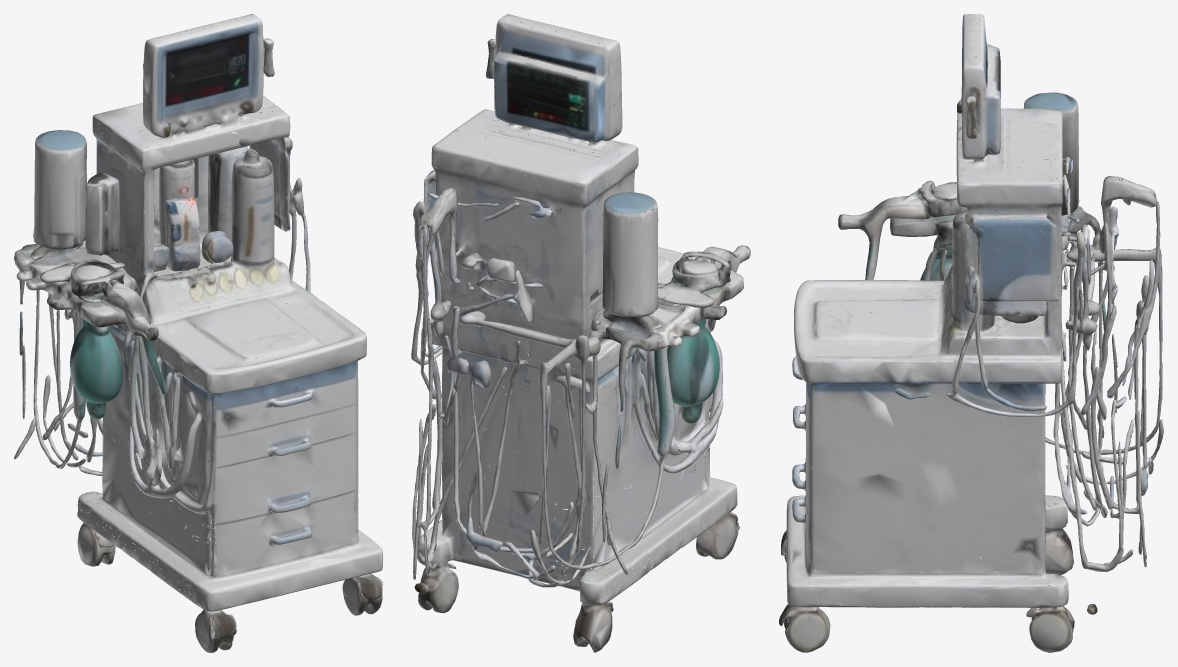
The picture shows the model from 3 angles, left to right: view 1: azimuth 30°, elevation 25°; view 2: azimuth 150°, elevation 25°; view 3: azimuth 270°, elevation 25°; orthographic projection. The views are drawn at different scales.
Visible parts, largest first — view 1: Object_5, Object_6, Object_7, Object_8, Object_9, Object_10, Object_11, Object_12; view 2: Object_9, Object_8, Object_10, Object_12, Object_6, Object_11, Object_7, Object_5; view 3: Object_7, Object_5, Object_6, Object_10, Object_12, Object_9, Object_11, Object_8.
Part boxes in pixels (x1,y1,x2,y2): Object_5: [77, 95, 382, 652]; Object_6: [92, 14, 362, 359]; Object_7: [15, 184, 359, 543]; Object_8: [70, 107, 372, 609]; Object_9: [14, 139, 296, 512]; Object_10: [14, 290, 214, 575]; Object_11: [19, 146, 247, 523]; Object_12: [35, 17, 349, 636]; Object_9: [411, 201, 719, 591]; Object_8: [421, 147, 723, 601]; Object_10: [413, 187, 709, 652]; Object_12: [413, 20, 728, 567]; Object_6: [414, 14, 638, 364]; Object_11: [412, 180, 697, 613]; Object_7: [411, 209, 750, 528]; Object_5: [417, 109, 739, 605]; Object_7: [810, 180, 1085, 577]; Object_5: [779, 120, 1066, 652]; Object_6: [809, 14, 1073, 411]; Object_10: [968, 176, 1163, 575]; Object_12: [811, 17, 1138, 587]; Object_9: [974, 101, 1162, 576]; Object_11: [976, 159, 1137, 652]; Object_8: [809, 111, 1149, 646].
Bounding box in the file's own units: 0.9998 × 2.01 × 1.23.
Materials: 1 (1 with a texture image).
